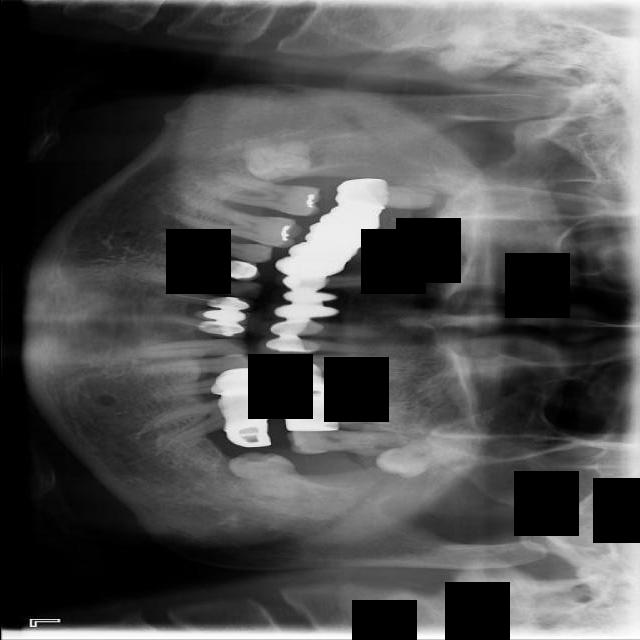3M ESPE Implant: (335, 177, 440, 211)
52: (272, 158, 405, 304), (264, 351, 348, 447), (205, 362, 281, 457), (257, 273, 337, 355), (192, 293, 254, 341), (249, 212, 303, 251), (274, 181, 322, 219), (205, 256, 261, 284)
73: (153, 287, 220, 308), (158, 312, 212, 334), (28, 600, 48, 608)
BioHorizons Implant: (286, 425, 410, 457)
BioLife Implant: (370, 430, 484, 486)
Biomet 3i Implant: (221, 442, 326, 510)
Implant: (207, 171, 323, 219)
Keystone Dental Implant: (242, 136, 312, 181)
